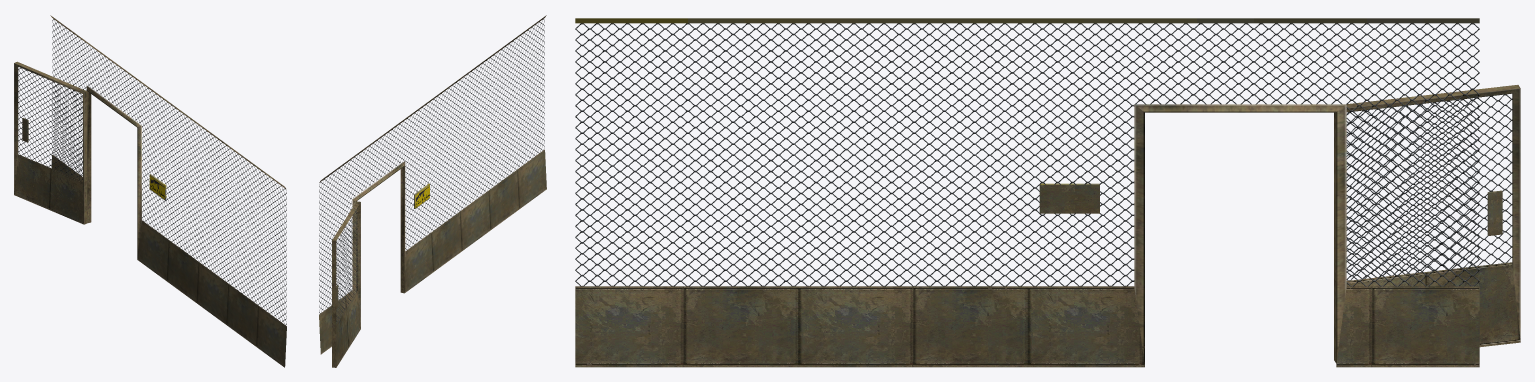
Rendered from M5A_Armoury_Grille.glb.
3 views of the same model, side by side, from view 1: azimuth 30°, elevation 25°; view 2: azimuth 150°, elevation 25°; view 3: azimuth 270°, elevation 25° (orthographic). The views are drawn at different scales.
Parts seen in each view (by area): view 1: M5A_ARMOURY_GRILLE; view 2: M5A_ARMOURY_GRILLE; view 3: M5A_ARMOURY_GRILLE.
Boxes of the visible parts, left/top/right/bottom form: M5A_ARMOURY_GRILLE: left=14, top=15, right=286, bottom=367; M5A_ARMOURY_GRILLE: left=319, top=15, right=546, bottom=367; M5A_ARMOURY_GRILLE: left=575, top=18, right=1520, bottom=367.
Size of the model in its own units: 0.517 by 2.98 by 7.32.
3 materials, 3 textured.
